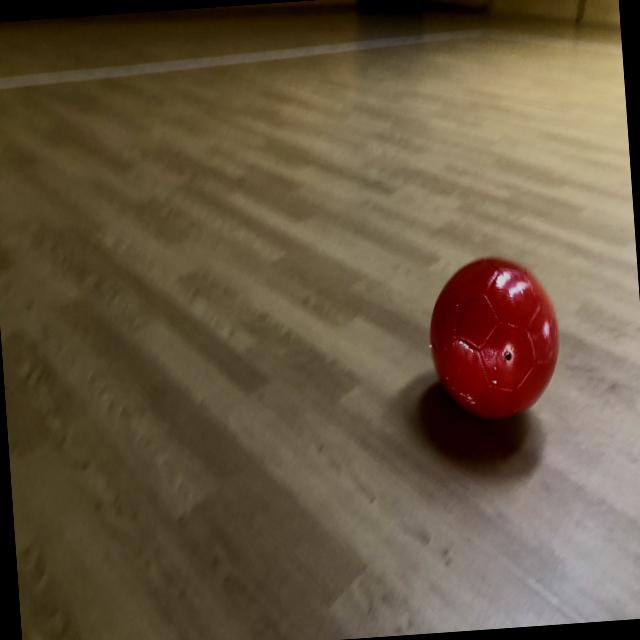red_ball: (424, 250, 565, 424)
